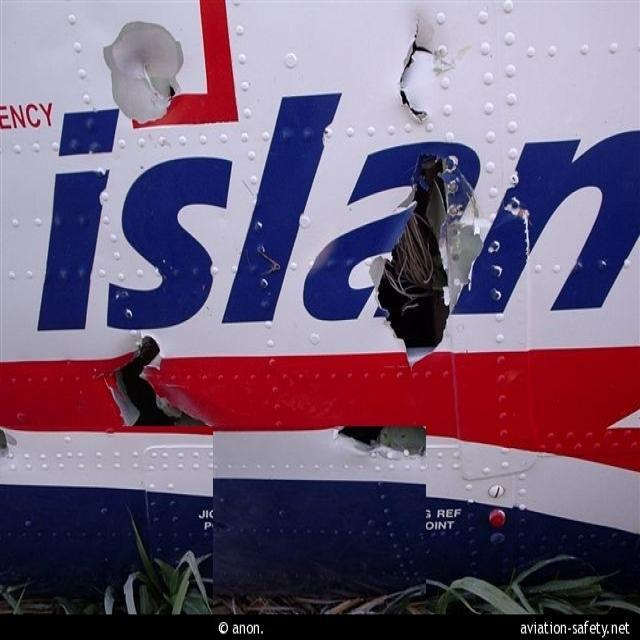crack: (373, 152, 490, 368), (102, 330, 219, 438), (396, 10, 459, 131), (326, 421, 438, 463), (139, 61, 187, 110)
